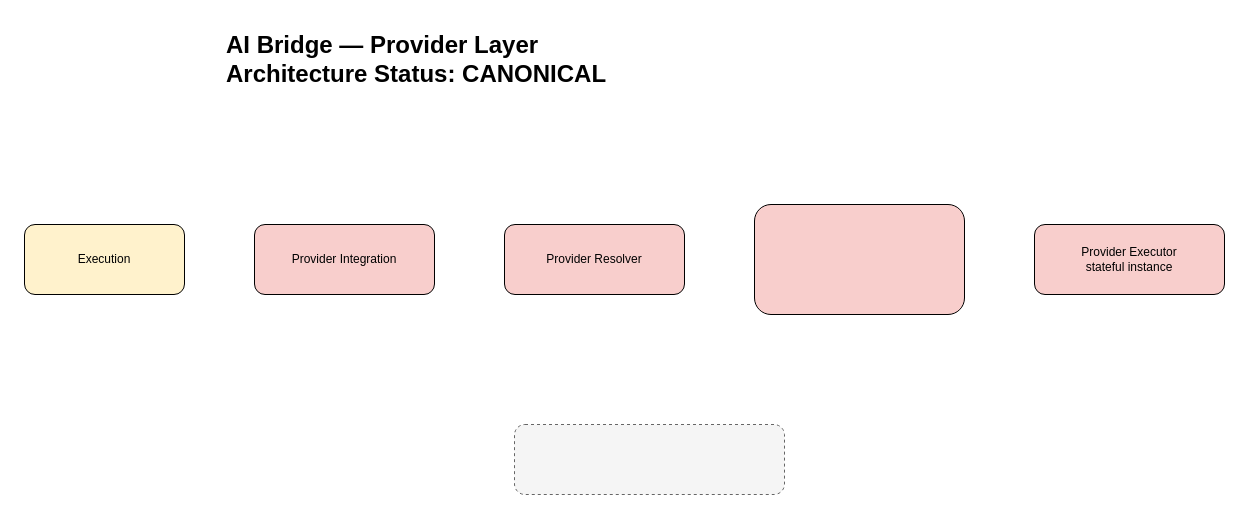
Some shapes in this 1242 by 512 pixel diagram are drawn without their labels. Each missing label, with the centre of its shape:
"Historical / Transitional: Provider Gateway implementation adapter only" goes at point 649,459.
"Provider stateless definition + Runtime Profile" goes at point 859,259.
